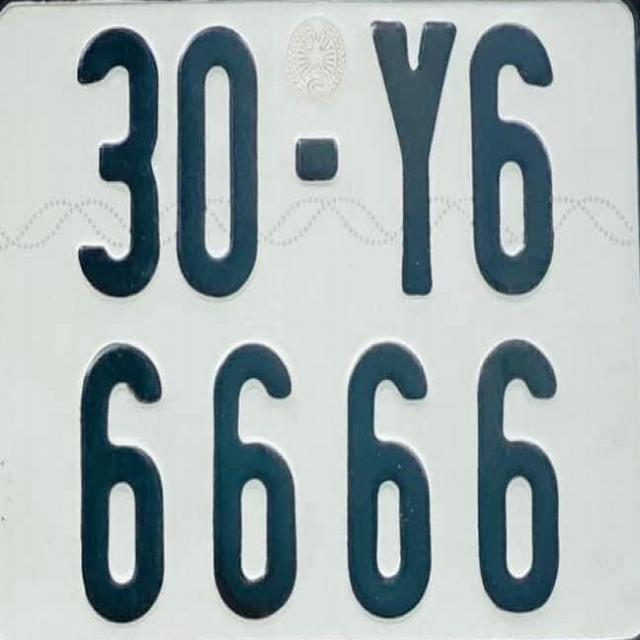0: (169, 15, 269, 303)
3: (67, 15, 164, 307)
6: (202, 330, 306, 625), (70, 332, 173, 628), (338, 329, 440, 622), (467, 329, 568, 618), (462, 12, 562, 302)
Y: (359, 5, 461, 291)
